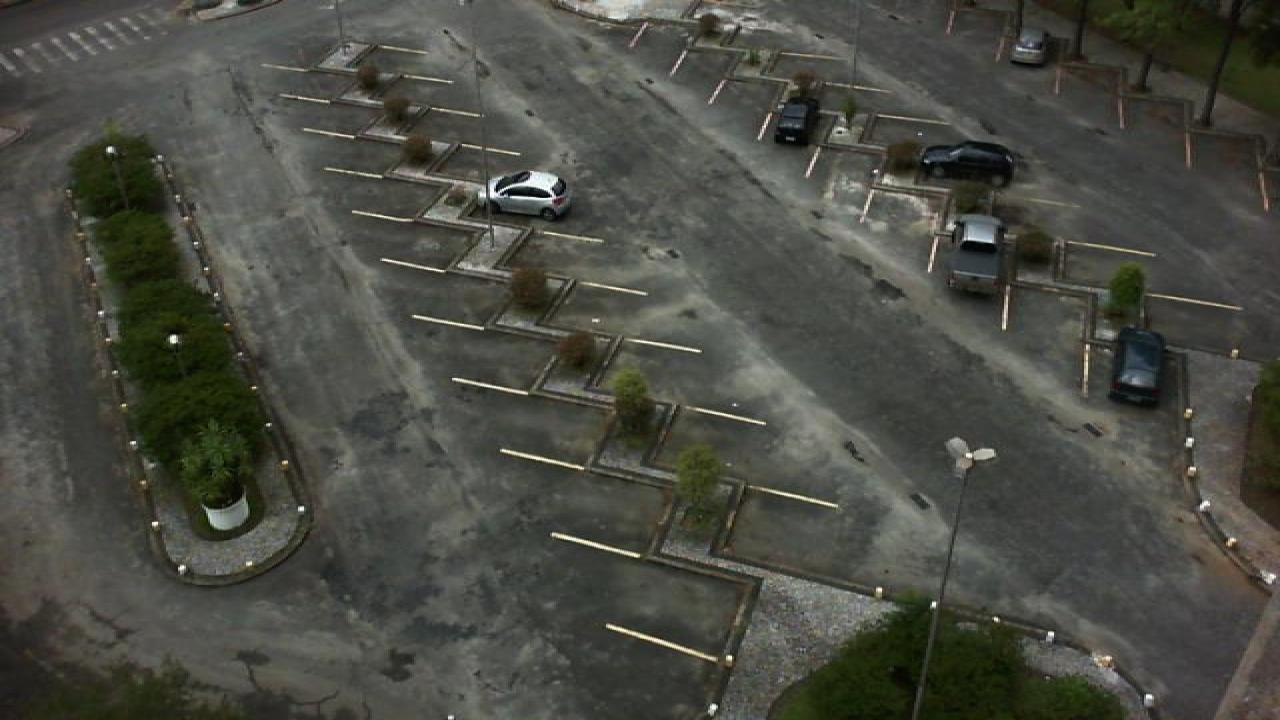Car: (944, 212, 1006, 296), (1106, 326, 1168, 406), (482, 170, 574, 220), (918, 140, 1018, 184), (772, 97, 822, 145), (1008, 28, 1050, 66)
